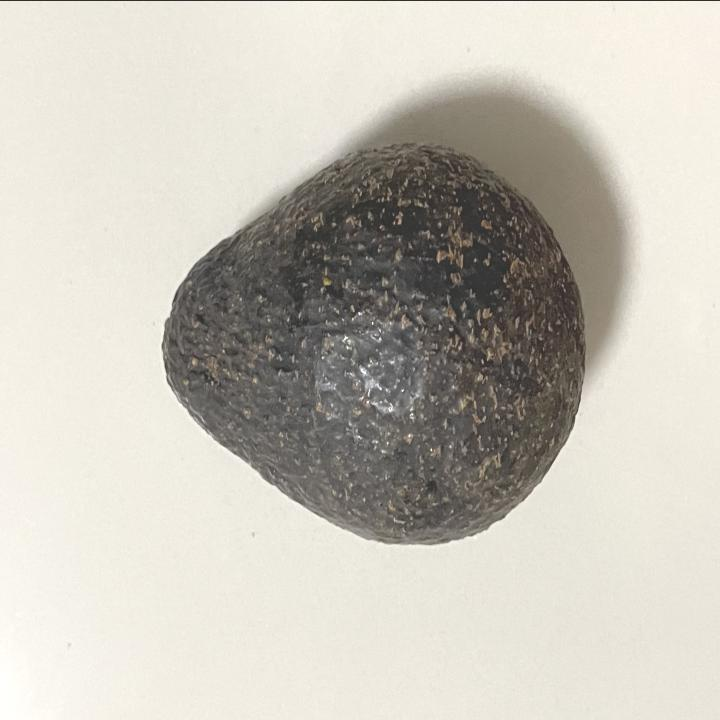Level3: (150, 131, 595, 559)
